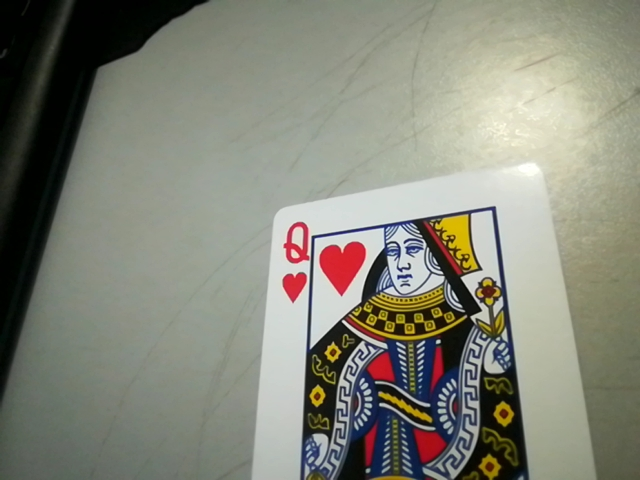hx q: (269, 216, 316, 305)
